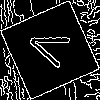V: (25, 25, 79, 72)
